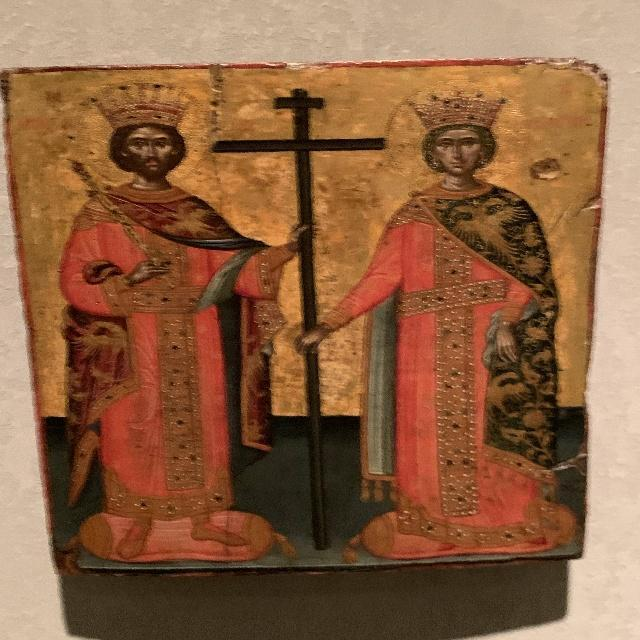aura: (70, 80, 208, 183), (383, 88, 529, 185)
cross: (244, 85, 386, 545)
crown: (89, 90, 194, 131), (406, 94, 505, 129)
st_constantine: (77, 74, 286, 551)
st_helen: (375, 80, 550, 536)
